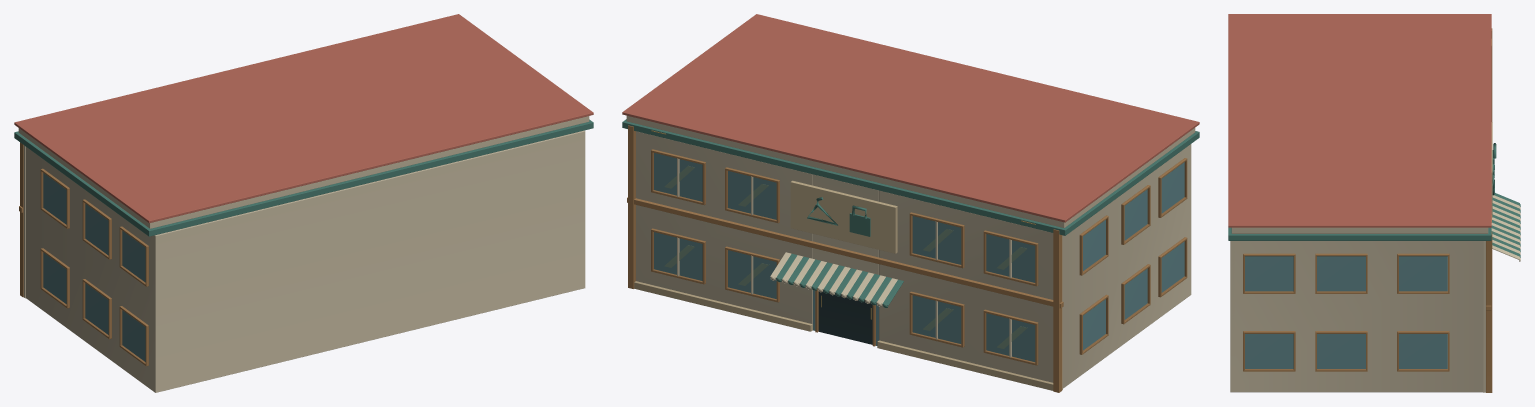
The model's file is mall_exterior.glb.
3 views of the same model, side by side, from view 1: azimuth 30°, elevation 25°; view 2: azimuth 150°, elevation 25°; view 3: azimuth 270°, elevation 25° (orthographic). The views are drawn at different scales.
Size of the model in its own units: 24 by 9 by 14.
